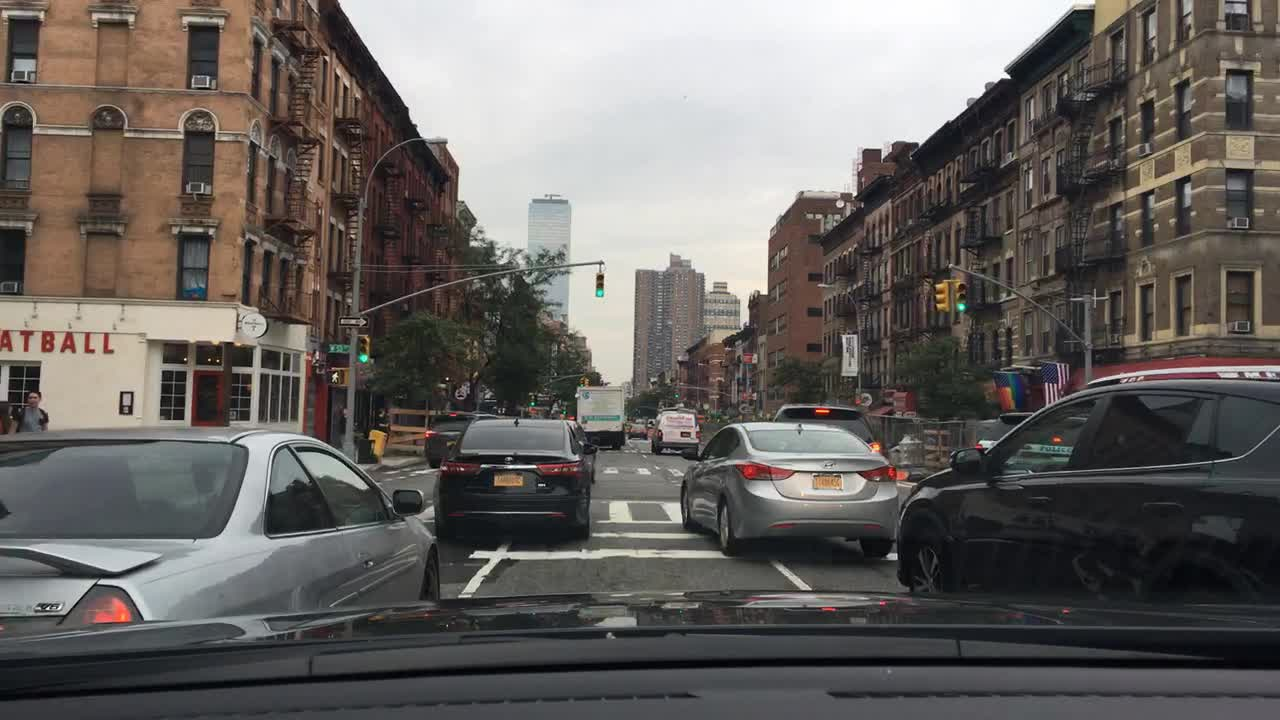car: (0, 427, 440, 627), (893, 365, 1279, 592), (677, 419, 899, 555), (774, 399, 880, 460), (422, 411, 497, 468), (966, 410, 1036, 453), (649, 408, 701, 456), (627, 420, 652, 440), (644, 416, 658, 427), (622, 420, 632, 433)
person: (7, 388, 52, 434), (0, 394, 20, 445), (334, 403, 354, 450), (375, 407, 391, 442)
traffic light: (930, 280, 952, 310), (953, 283, 972, 313), (356, 333, 370, 364), (593, 272, 604, 298), (578, 376, 590, 387), (671, 388, 681, 401), (526, 393, 535, 407)
traffic sign: (241, 312, 263, 337), (336, 315, 368, 327), (326, 367, 347, 385), (353, 368, 370, 390), (327, 342, 350, 352), (740, 350, 757, 362), (740, 391, 759, 399)
truck: (433, 420, 596, 542), (572, 384, 626, 446)
